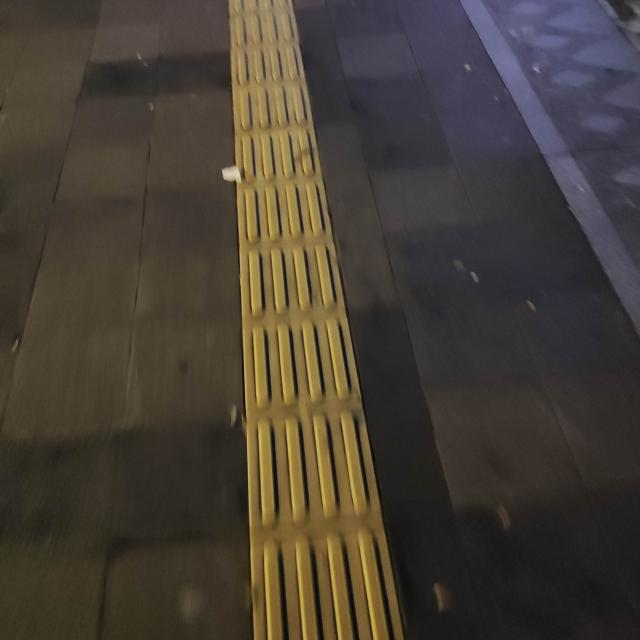lurus: (238, 20, 375, 640)
